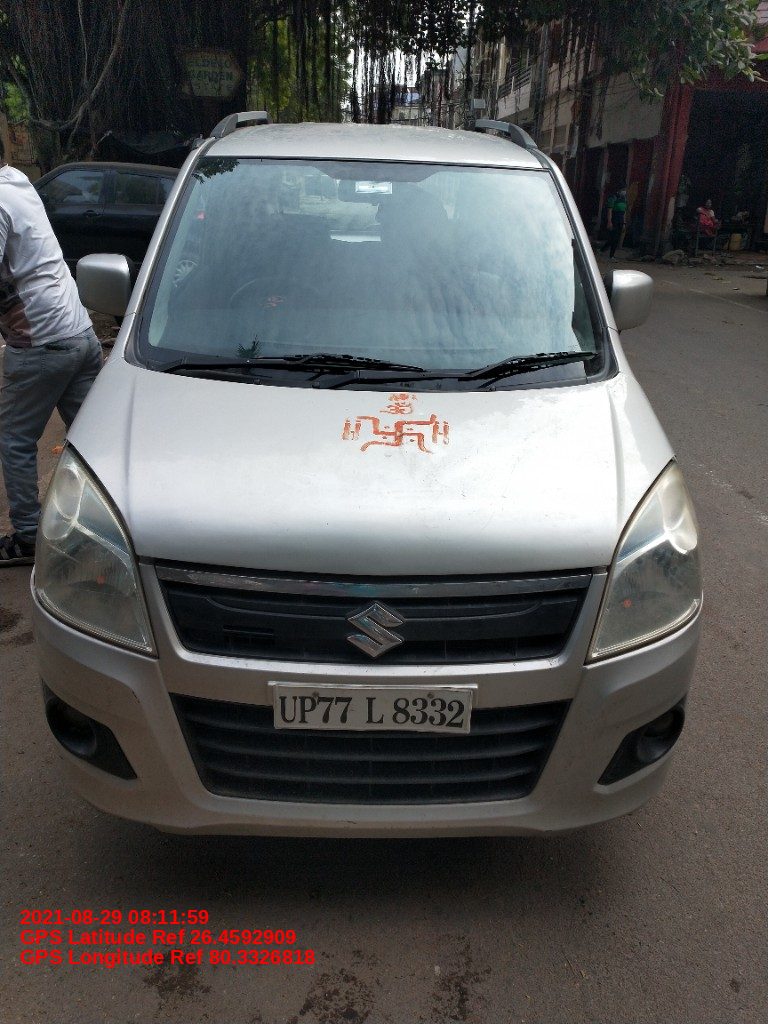Scratched: (581, 700, 628, 734), (565, 743, 603, 775), (126, 685, 146, 710), (341, 818, 370, 832)
